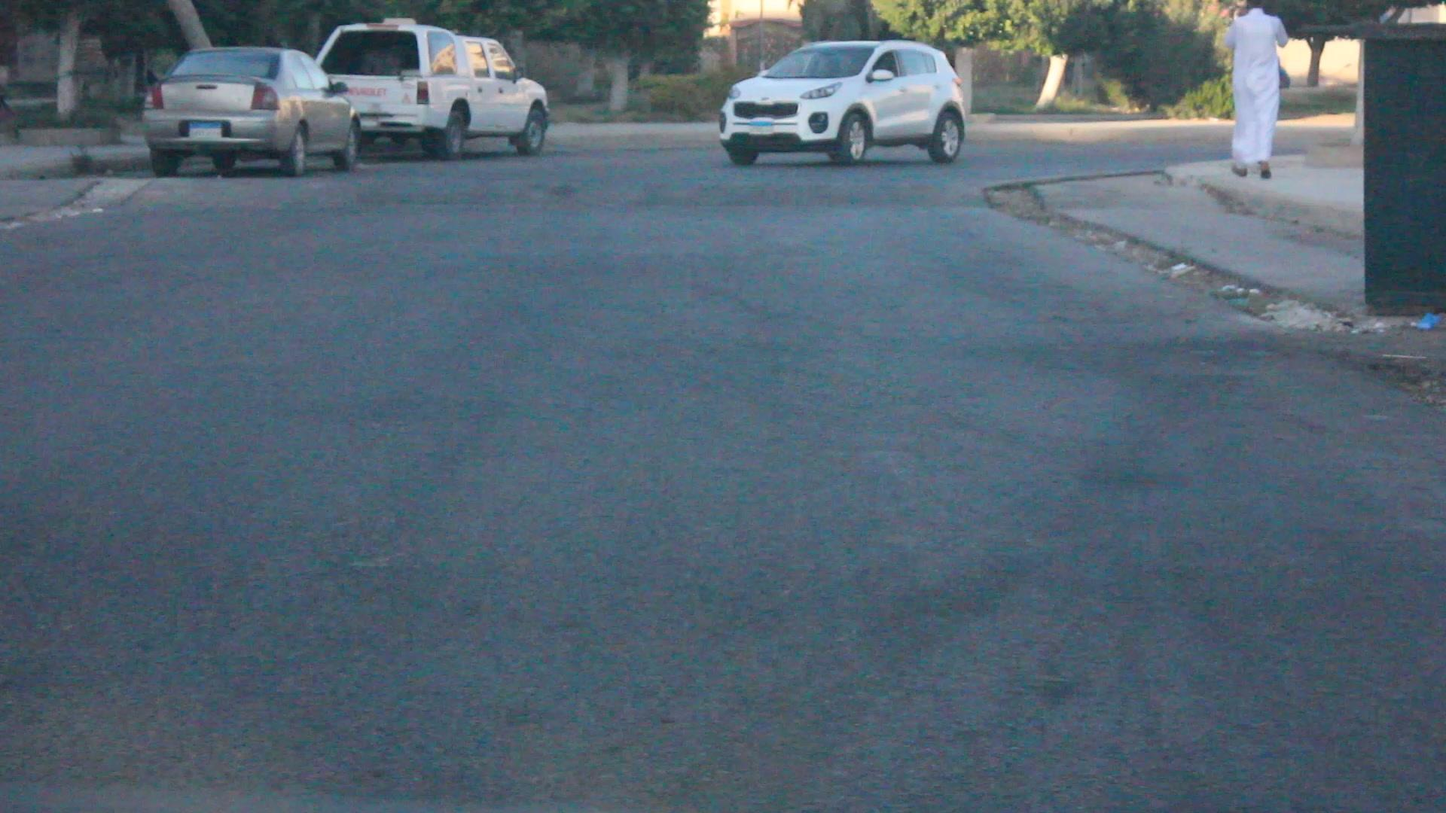Bump: (90, 169, 1013, 216)
